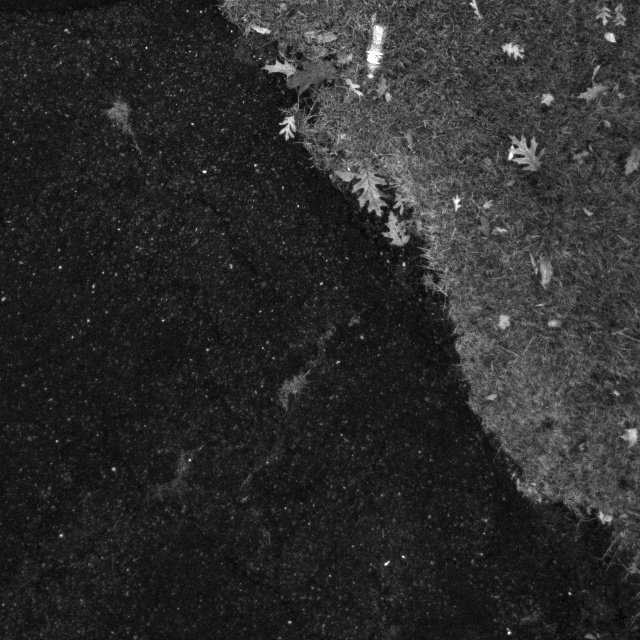bottle: (357, 19, 402, 87)
